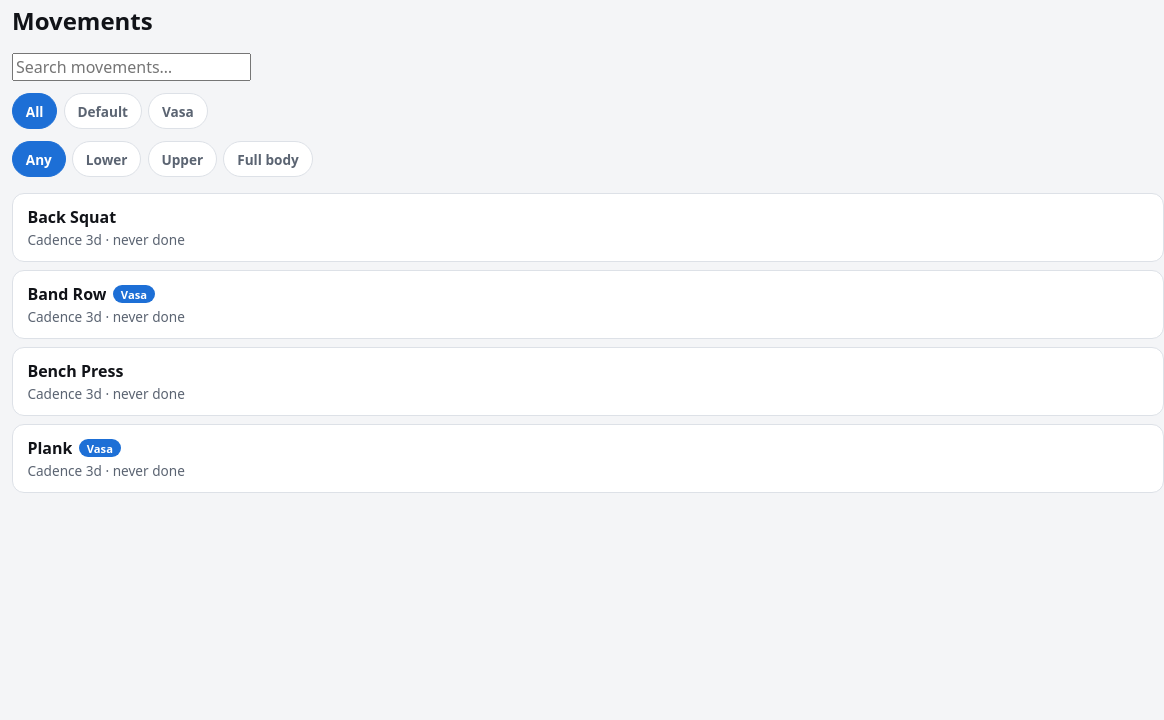
Test: Movements › filters to the Vasa library
Click the button "Vasa" at (178, 111), box [148, 93, 208, 129]
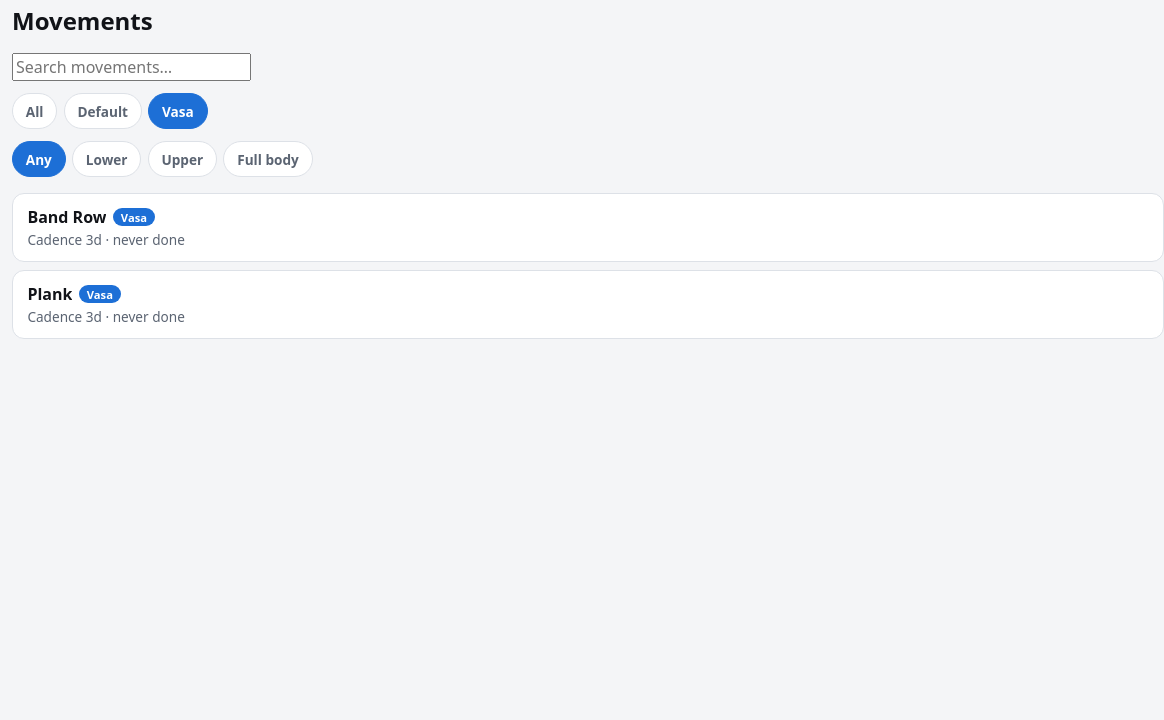
Check: the text "Plank" is shown, box [27, 283, 72, 305]
Check: the link "Back Squat" is gone
Check: the link "Bench Press" is gone
